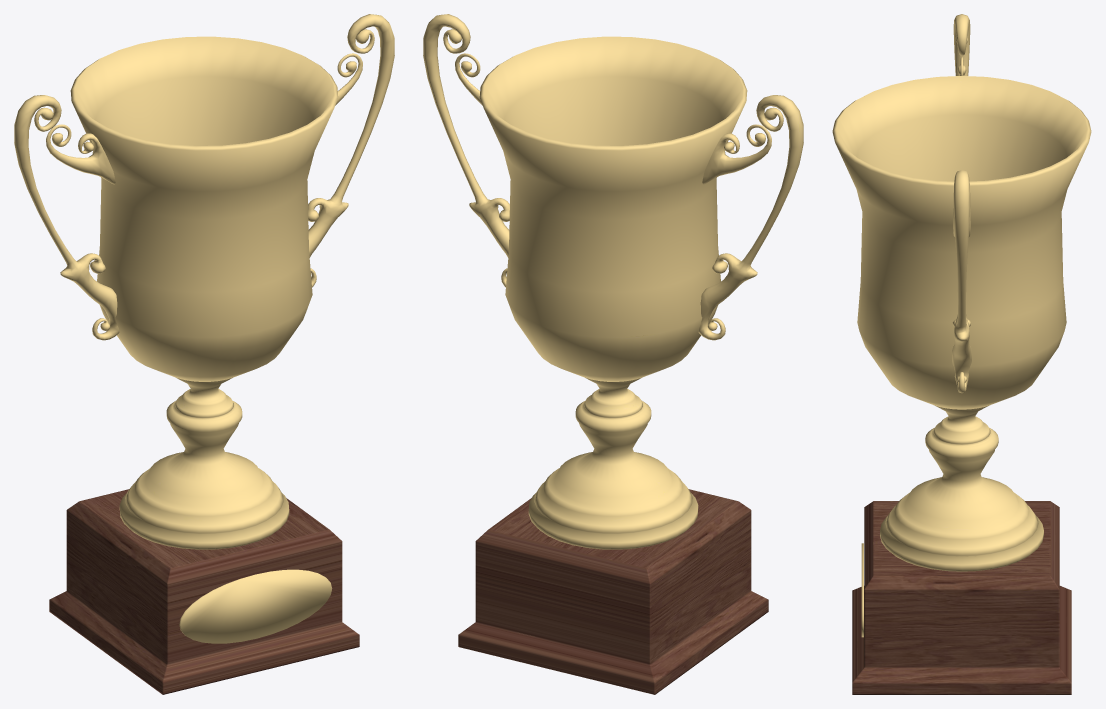
File: gold.fbx
3 views of the same model, side by side, from view 1: azimuth 30°, elevation 25°; view 2: azimuth 150°, elevation 25°; view 3: azimuth 270°, elevation 25° (orthographic). The views are drawn at different scales.
Parts seen in each view (by area): view 1: trophy; view 2: trophy; view 3: trophy.
Boxes of the visible parts, box(x1,y1,x2,y2) form: trophy: box(14, 14, 394, 694); trophy: box(423, 14, 803, 694); trophy: box(832, 14, 1091, 694).
Size of the model in its own units: 312 by 452 by 191.
